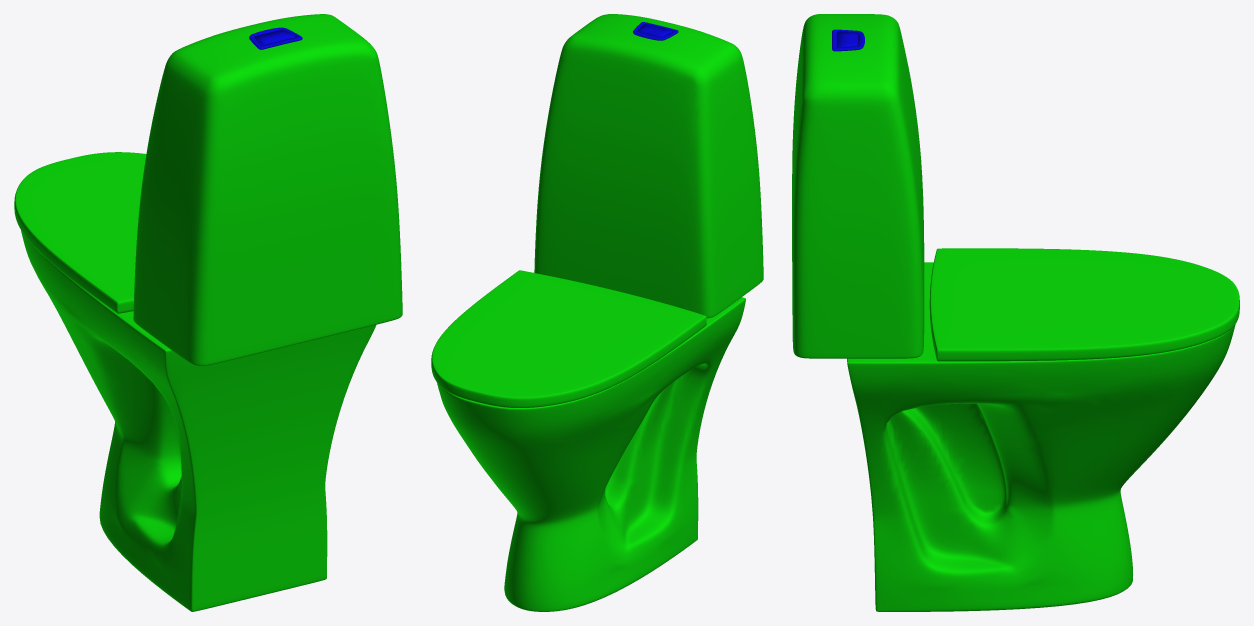
File: Toilet.fbx
3 renders of one model, left to right at view 1: azimuth 30°, elevation 25°; view 2: azimuth 150°, elevation 25°; view 3: azimuth 270°, elevation 25°, orthographic. The views are drawn at different scales.
Visible parts, largest first — view 1: Toilet; view 2: Toilet; view 3: Toilet.
Part boxes in pixels (x1=…): Toilet: x1=14, y1=14, x2=402, y2=611; Toilet: x1=431, y1=14, x2=763, y2=611; Toilet: x1=792, y1=14, x2=1239, y2=611.
Size of the model in its own units: 0.348 by 0.8582 by 0.6425.
